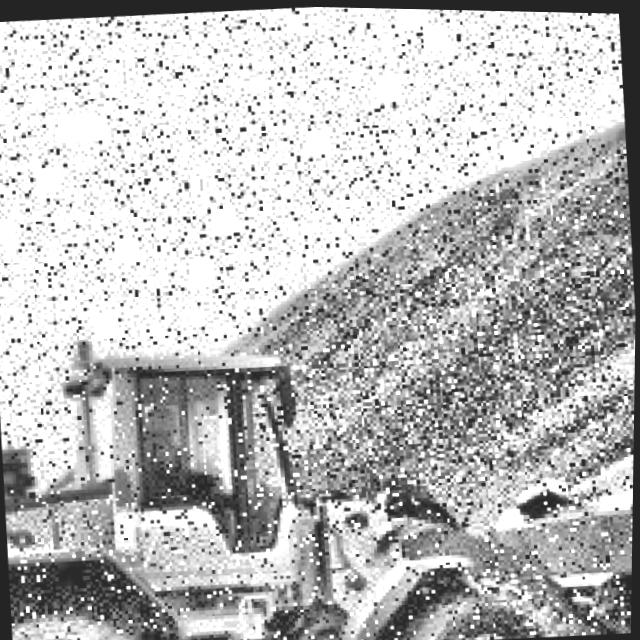buldozerpayloadergrader: (0, 276, 637, 640)
